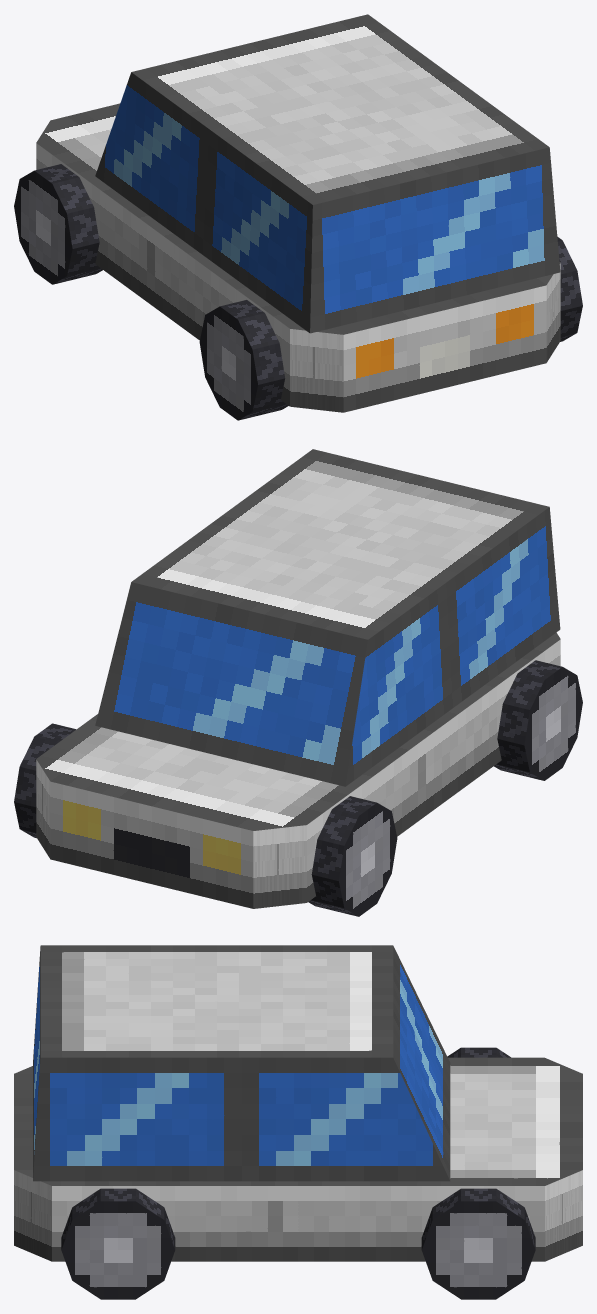
The model's file is car_base2.glb.
3 renders of one model, top to bottom at view 1: azimuth 30°, elevation 25°; view 2: azimuth 150°, elevation 25°; view 3: azimuth 270°, elevation 25°, orthographic. The views are drawn at different scales.
Visible parts, largest first — view 1: Cabin, Body, Wheel_FL, Wheel_RL, Wheel_RR; view 2: Cabin, Body, Wheel_RL, Wheel_FL, Wheel_FR; view 3: Cabin, Body, Wheel_FR, Wheel_RR, Wheel_FL.
Boxes of the visible parts, x1,y1,x2,y2 form: Cabin: [95, 14, 560, 333]; Body: [36, 103, 560, 412]; Wheel_FL: [14, 164, 102, 284]; Wheel_RL: [199, 300, 288, 420]; Wheel_RR: [557, 236, 582, 341]; Cabin: [95, 449, 560, 786]; Body: [36, 632, 560, 908]; Wheel_RL: [494, 660, 582, 780]; Wheel_FL: [308, 796, 397, 916]; Wheel_FR: [14, 723, 76, 838]; Cabin: [33, 945, 450, 1181]; Body: [14, 1057, 582, 1261]; Wheel_FR: [421, 1188, 535, 1299]; Wheel_RR: [61, 1188, 175, 1299]; Wheel_FL: [447, 1047, 510, 1057].
Bounding box in the file's own units: 1.92 × 1.29 × 3.
Materials: 1 (1 with a texture image).
